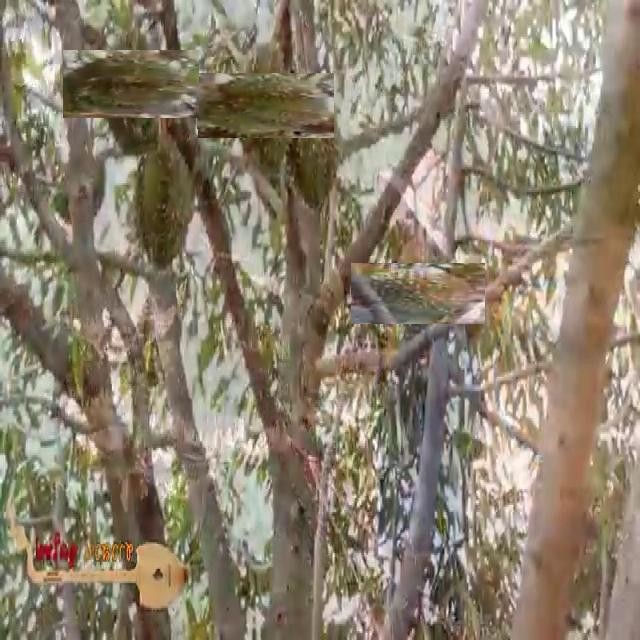durian: (278, 61, 347, 218), (79, 33, 182, 135), (214, 55, 316, 156), (130, 129, 198, 271), (369, 245, 467, 342)
